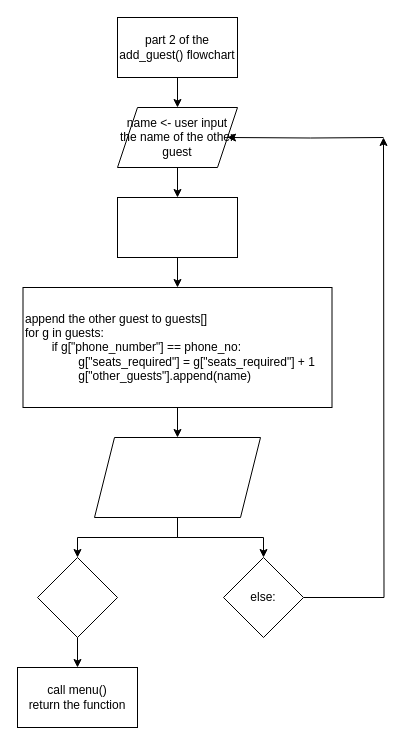
Image size: 410x745. Some labels were removed from this diagram. Each missing label, with the centre of its shape:
finished = user input "done" if they dont need to add any more other guest: pixel 177 477
if finished == "done": pixel 77 597
name <- call check(name) to validate the name: pixel 177 227
